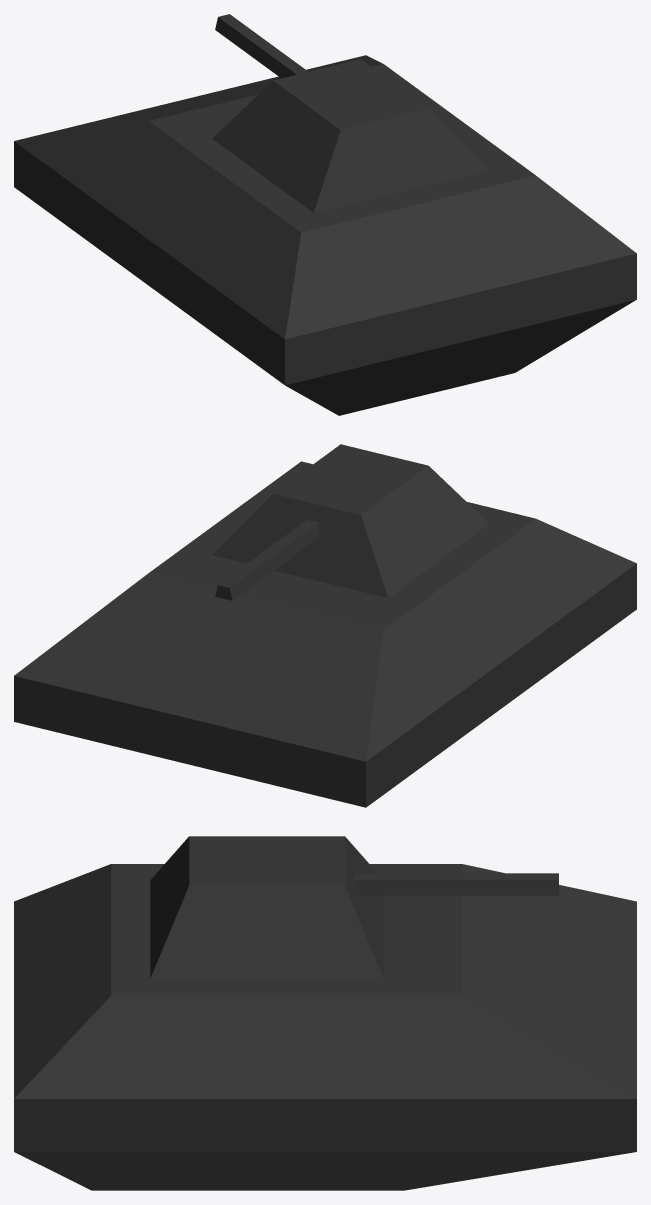
Rendered from data.dae.
The picture shows the model from 3 angles, top to bottom: view 1: azimuth 30°, elevation 25°; view 2: azimuth 150°, elevation 25°; view 3: azimuth 270°, elevation 25°; orthographic projection. The views are drawn at different scales.
Parts seen in each view (by area): view 1: Tank; view 2: Tank; view 3: Tank.
Part boxes in pixels (x1,y1,x2,y2): Tank: [14, 14, 636, 415]; Tank: [14, 444, 636, 807]; Tank: [14, 836, 636, 1190].
Size of the model in its own units: 2.4 by 3.2 by 1.59.
Materials: 1 (1 with a texture image).
